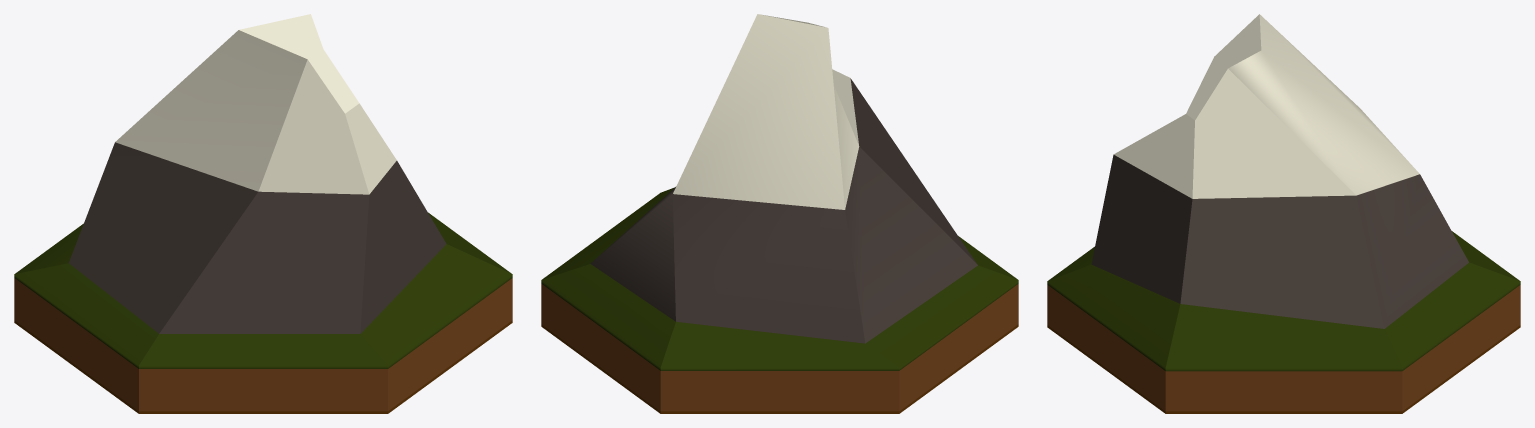
The model's file is mountain5.fbx.
3 renders of one model, left to right at view 1: azimuth 30°, elevation 25°; view 2: azimuth 150°, elevation 25°; view 3: azimuth 270°, elevation 25°, orthographic. The views are drawn at different scales.
Visible parts, largest first — view 1: pCylinder2; view 2: pCylinder2; view 3: pCylinder2.
Boxes of the visible parts, x1,y1,x2,y2 form: pCylinder2: (14,14,512,413); pCylinder2: (541,14,1018,413); pCylinder2: (1047,14,1520,413).
Bounding box in the file's own units: 1.73 × 1.38 × 2.
